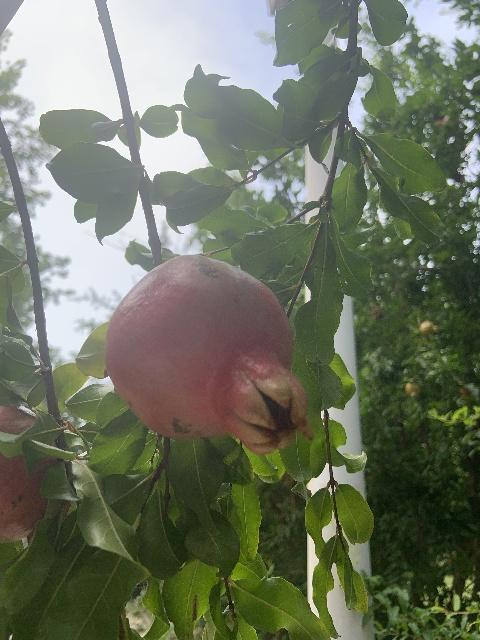mid-growth: (419, 320, 438, 337), (404, 382, 420, 397)
ripe: (104, 255, 312, 454)
